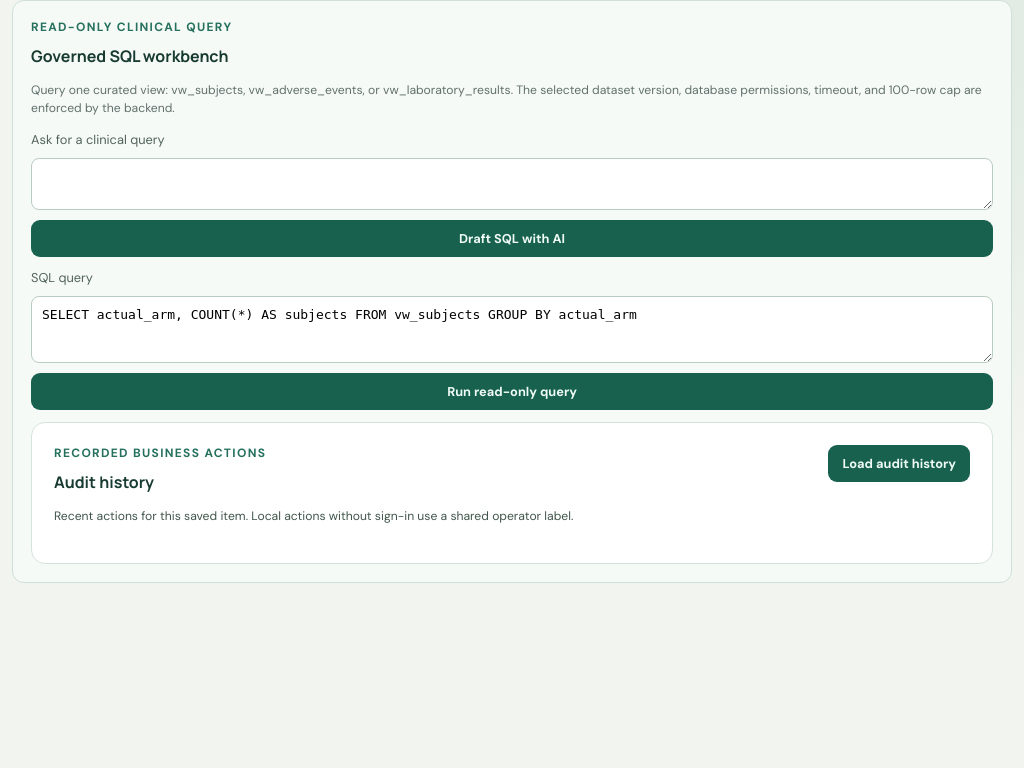
SQLWorkbench › keeps the query editable after a rejected request
This screenshot has width=1024, height=768.
Click the button "Run read-only query". click: (512, 392)
box: [31, 374, 993, 410]
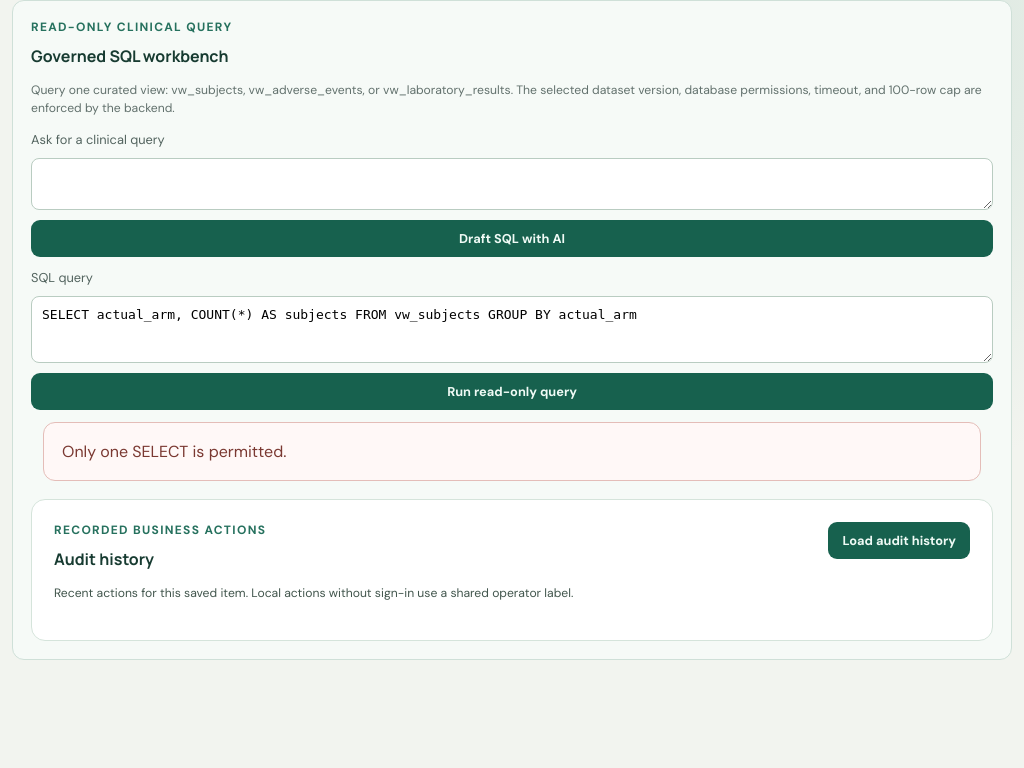
Check: the text box labelled "SQL query" is enabled, box [31, 296, 993, 364]
Check: the message reads "Only one SELECT is permitted.", box [62, 442, 286, 462]
